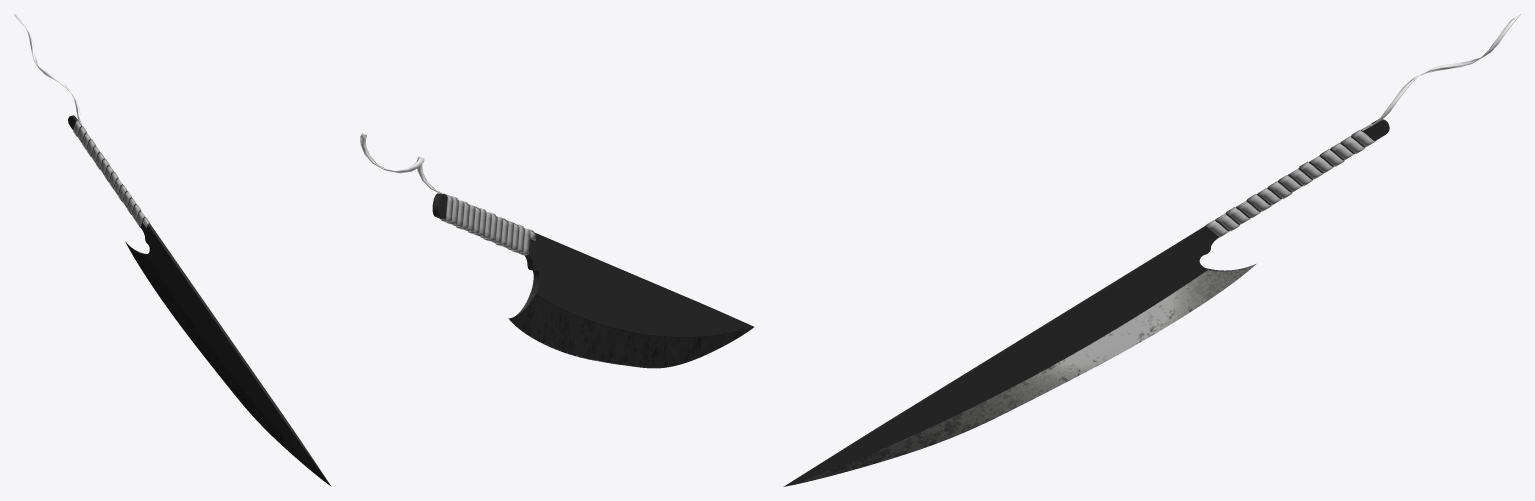
The picture shows the model from 3 angles, left to right: view 1: azimuth 30°, elevation 25°; view 2: azimuth 150°, elevation 25°; view 3: azimuth 270°, elevation 25°; orthographic projection. The views are drawn at different scales.
Parts seen in each view (by area): view 1: Ichigo_sword_2, Ichigo_sword2_3, Plane_4, Plane.001_5; view 2: Ichigo_sword_2, Ichigo_sword2_3, Plane_4, Plane.001_5; view 3: Ichigo_sword_2, Ichigo_sword2_3, Plane_4, Plane.001_5.
Boxes of the visible parts, x1,y1,x2,y2 form: Ichigo_sword_2: (68,115,330,485); Ichigo_sword2_3: (125,242,330,485); Plane_4: (73,120,149,227); Plane.001_5: (14,14,81,125); Ichigo_sword_2: (432,193,753,336); Ichigo_sword2_3: (508,293,753,368); Plane_4: (440,193,535,255); Plane.001_5: (360,132,443,193); Ichigo_sword_2: (784,119,1389,486); Ichigo_sword2_3: (785,264,1255,486); Plane_4: (1205,124,1375,237); Plane.001_5: (1362,14,1520,130).
Size of the model in its own units: 1.72 by 8.09 by 12.56.
Materials: 4 (1 with a texture image).
